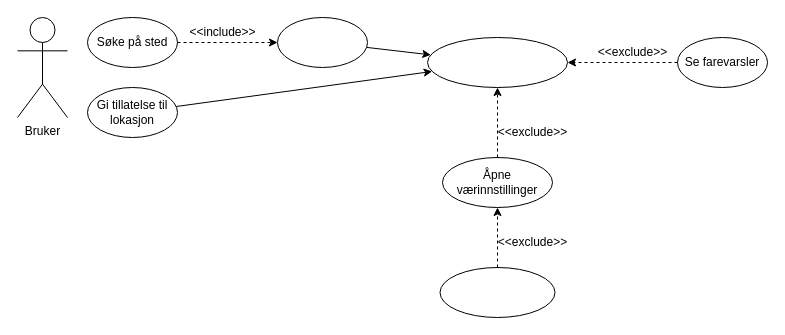
This 785x335 diagram has some shape labels left out. The centre of each missing label's shape, as x and y in pixels:
"Bytte mellom celsius og fahrenheit" belongs at point (497, 292).
"Se værinformasjon for lokasjon" belongs at point (497, 62).
"Velge sted" belongs at point (322, 42).
